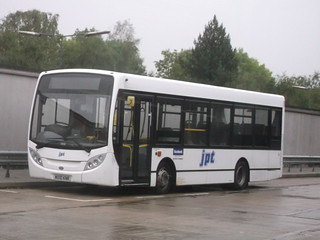bus: (27, 69, 285, 194)
